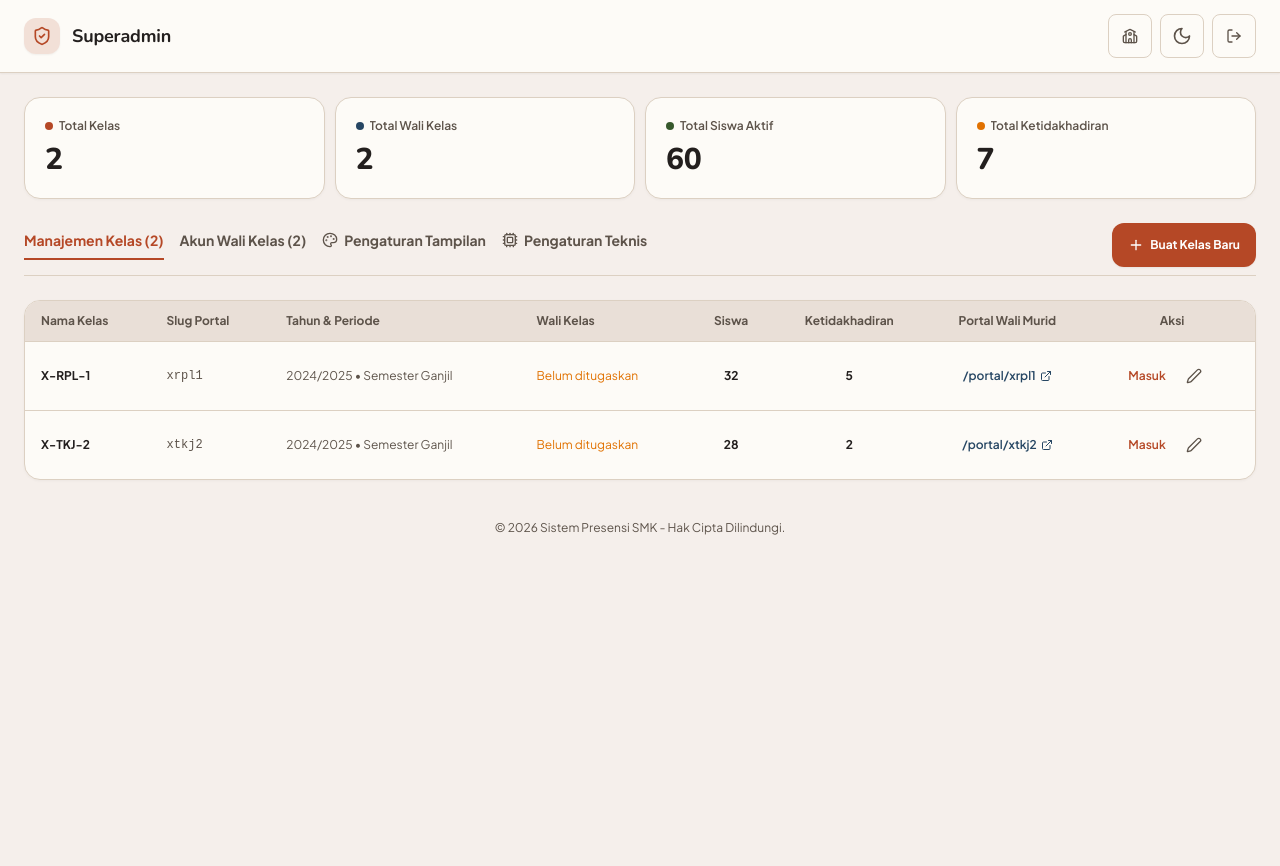
Test case: AdminClient Empirical Verification (R1 - R6) › R6: Admin Navigation & Settings UI/UX Refactor › consolidates 9router AI settings into 'Pengaturan Teknis' tab
In Pengaturan Tampilan, 9Router should NOT be present
Click the button "Pengaturan Tampilan".
click(404, 245)  # box [322,230,486,260]
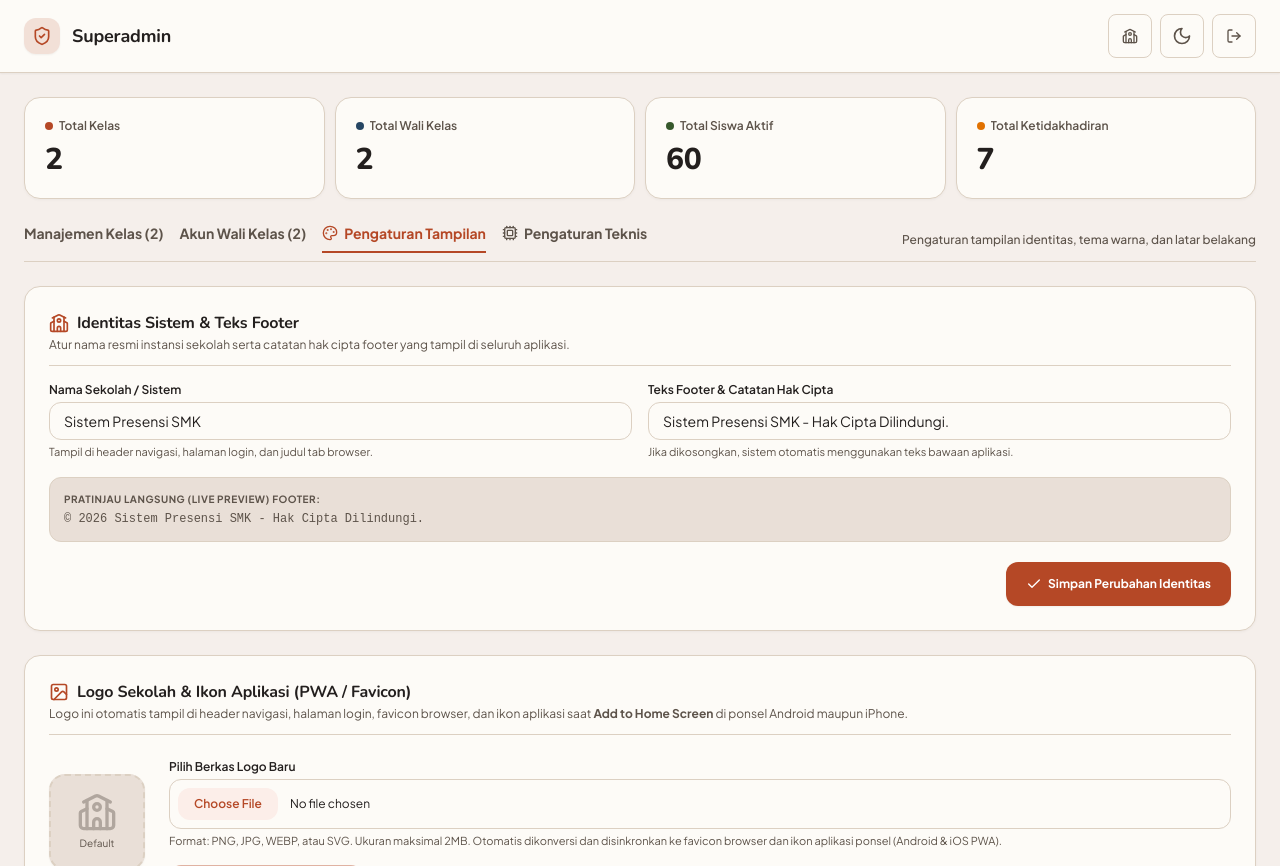
Expected: the heading "Integrasi AI" is not shown
Switch to Pengaturan Teknis
Click the button "Pengaturan Teknis".
click(575, 238)  # box [502,223,647,253]
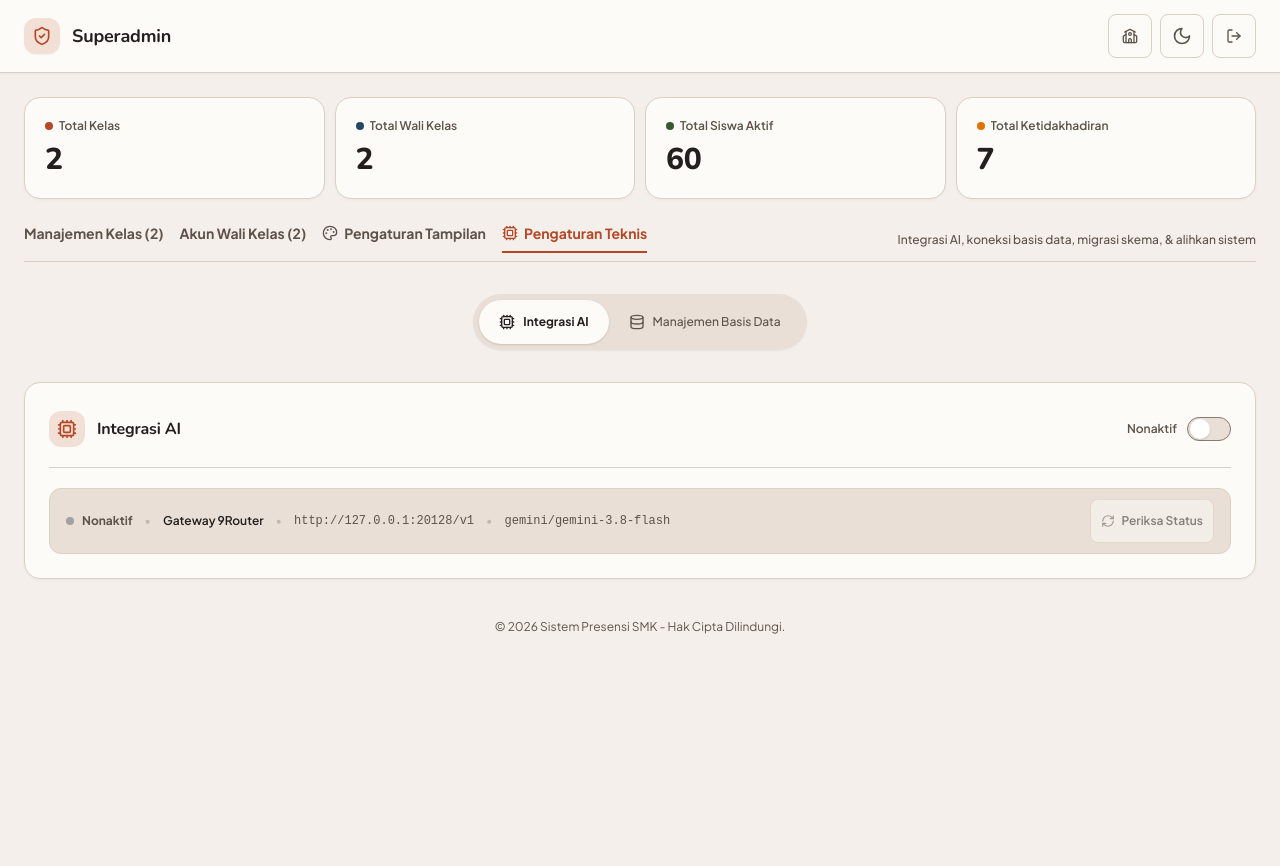
Expected: the heading "Integrasi AI" is shown, [97,417,181,441]
Expected: the switch named "Aktifkan Integrasi 9Router" is shown, [1187,417,1231,441]
